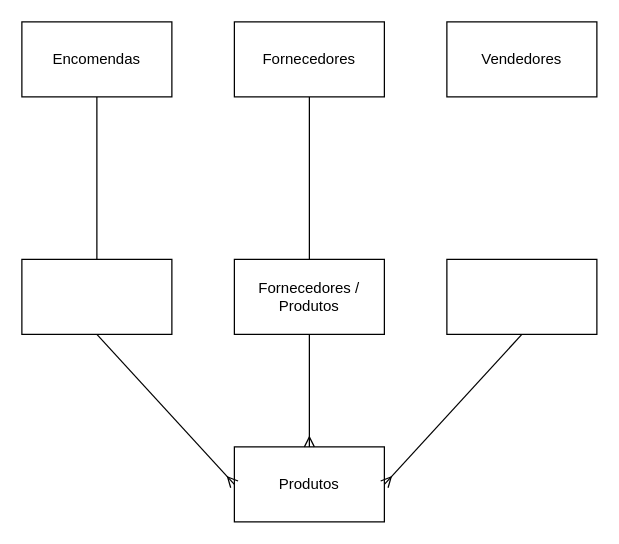
This 619x544 diagram has some shape labels left out. Here are the shapes that lost their labels. From the top down, the centre of each, then its label:
At (x=96, y=296): "Encomendas / Produtos".
At (x=521, y=296): "Categorias".
